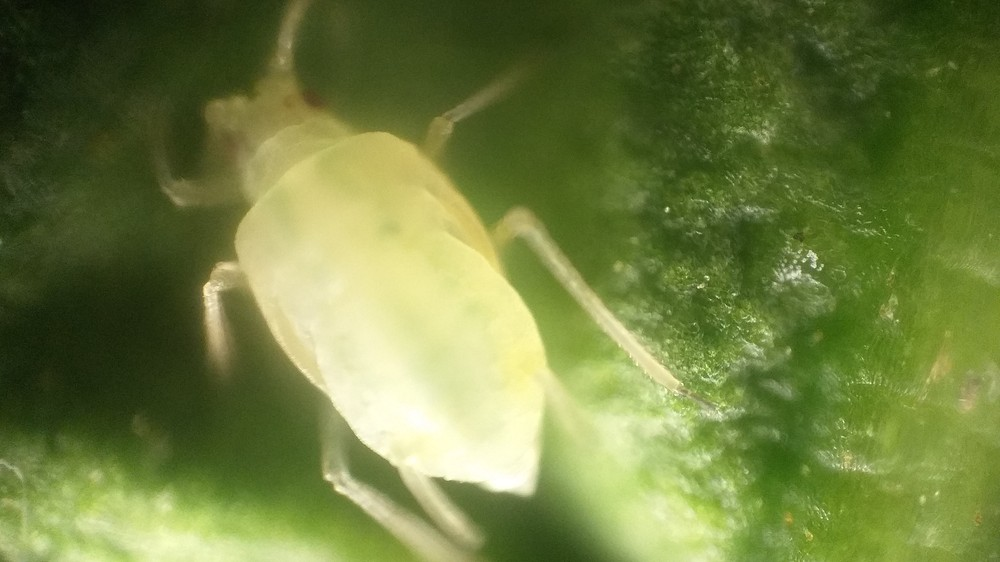Pulgon: (102, 5, 714, 553)
